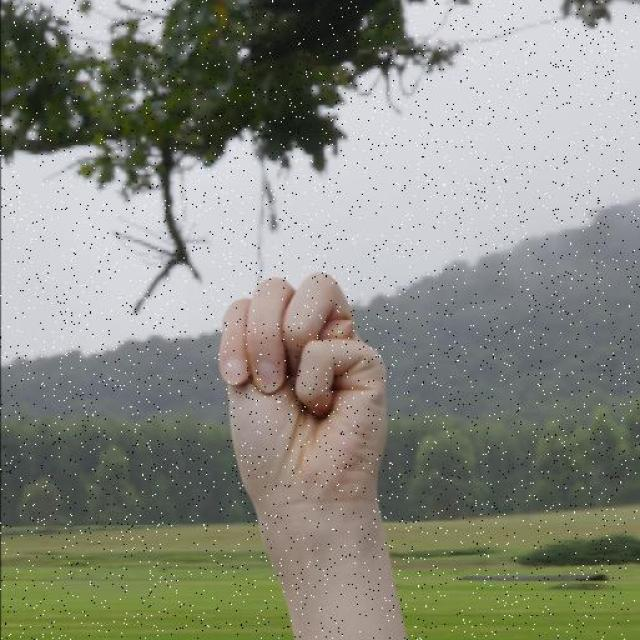M: (208, 267, 394, 519)
